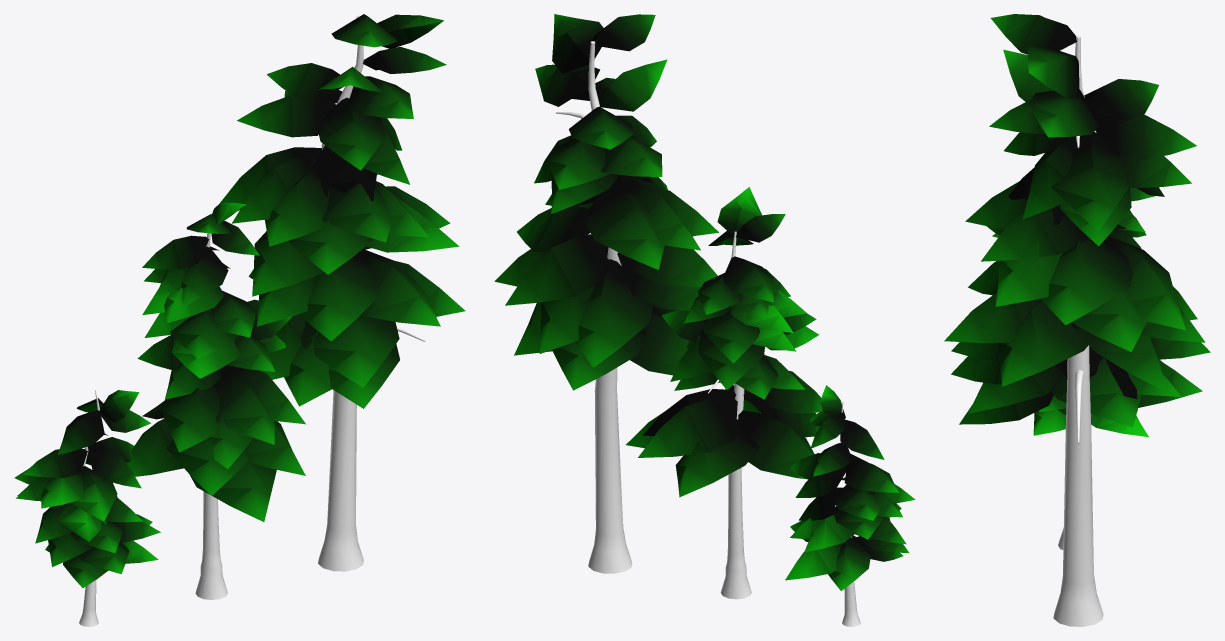
File: three-trees.glb
The picture shows the model from 3 angles, left to right: view 1: azimuth 30°, elevation 25°; view 2: azimuth 150°, elevation 25°; view 3: azimuth 270°, elevation 25°; orthographic projection. The views are drawn at different scales.
Parts seen in each view (by area): view 1: leaf_2, leaf_3, leaf, tree2, tree1, tree3; view 2: leaf_2, leaf_3, leaf, tree2, tree1, tree3; view 3: leaf_2, leaf_3, tree2, leaf.
Part boxes in pixels (x1,y1,x2,y2): leaf_2: (220,14,465,408); leaf_3: (126,202,305,521); leaf: (14,390,160,587); tree2: (318,15,425,571); tree1: (195,233,227,599); tree3: (79,390,99,626); leaf_2: (494,14,718,390); leaf_3: (626,187,822,497); leaf: (785,385,915,590); tree2: (555,41,632,573); tree1: (708,231,751,599); tree3: (835,402,860,626); leaf_2: (944,14,1210,392); leaf_3: (959,187,1202,427); tree2: (1053,36,1103,626); leaf: (1033,395,1148,437).
Size of the model in its own units: 10.2 by 12.93 by 5.16.
